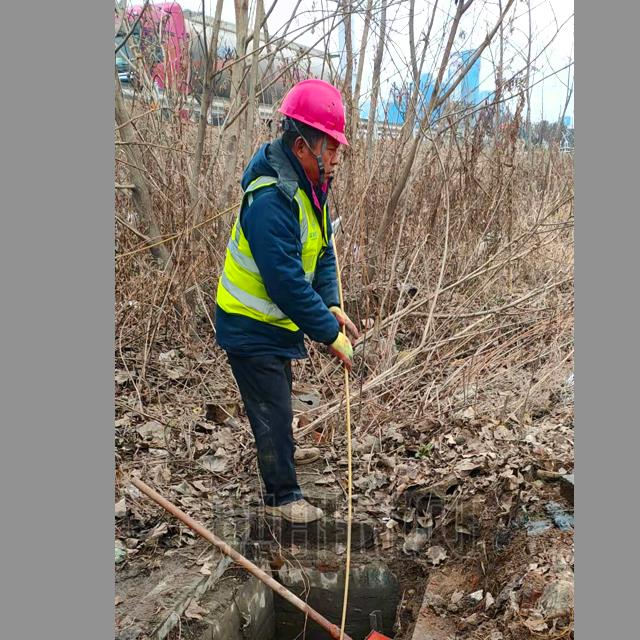lose: (147, 554, 437, 640)
